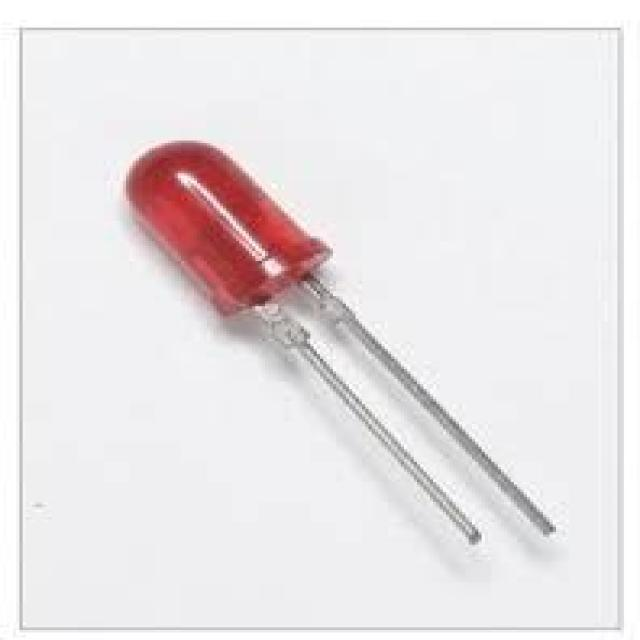Led: (126, 141, 555, 542)
